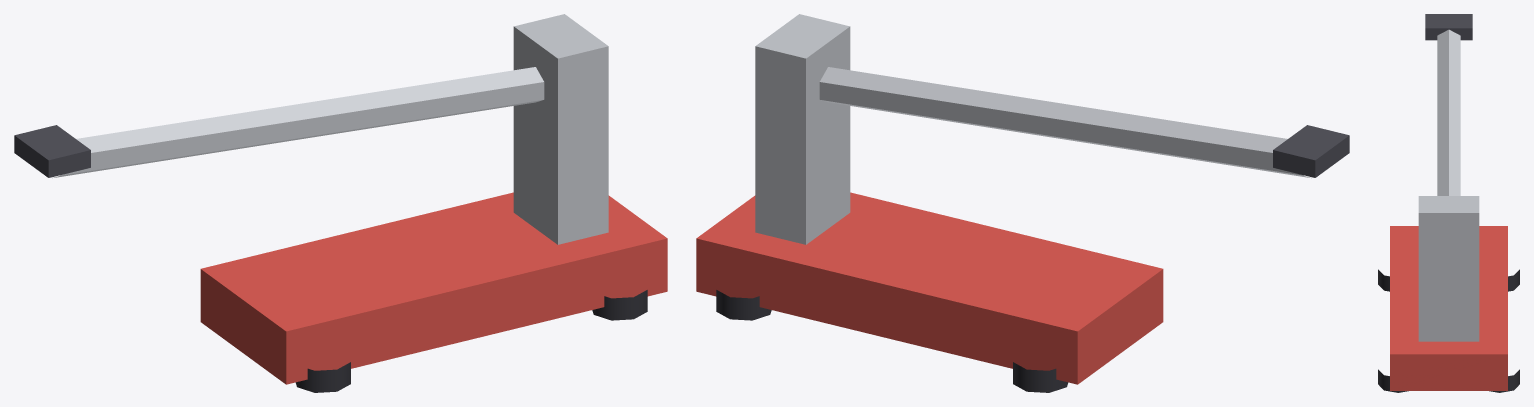
Rendered from hydraulic_jack.glb.
3 renders of one model, left to right at view 1: azimuth 30°, elevation 25°; view 2: azimuth 150°, elevation 25°; view 3: azimuth 270°, elevation 25°, orthographic. The views are drawn at different scales.
Parts seen in each view (by area): view 1: hydraulic_jack; view 2: hydraulic_jack; view 3: hydraulic_jack.
Boxes of the visible parts, x1=… form: hydraulic_jack: x1=14, y1=14, x2=667, y2=392; hydraulic_jack: x1=696, y1=14, x2=1349, y2=392; hydraulic_jack: x1=1378, y1=14, x2=1519, y2=392.
Size of the model in its own units: 1.4 by 0.605 by 0.42.
